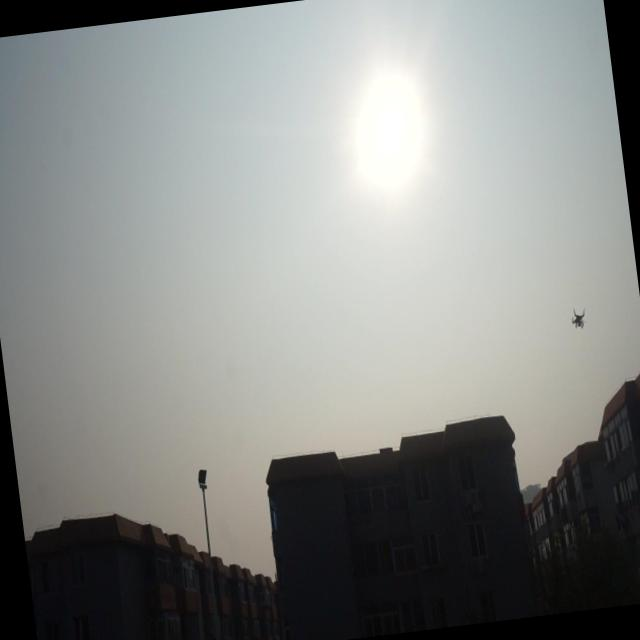drone: (566, 300, 588, 336)
